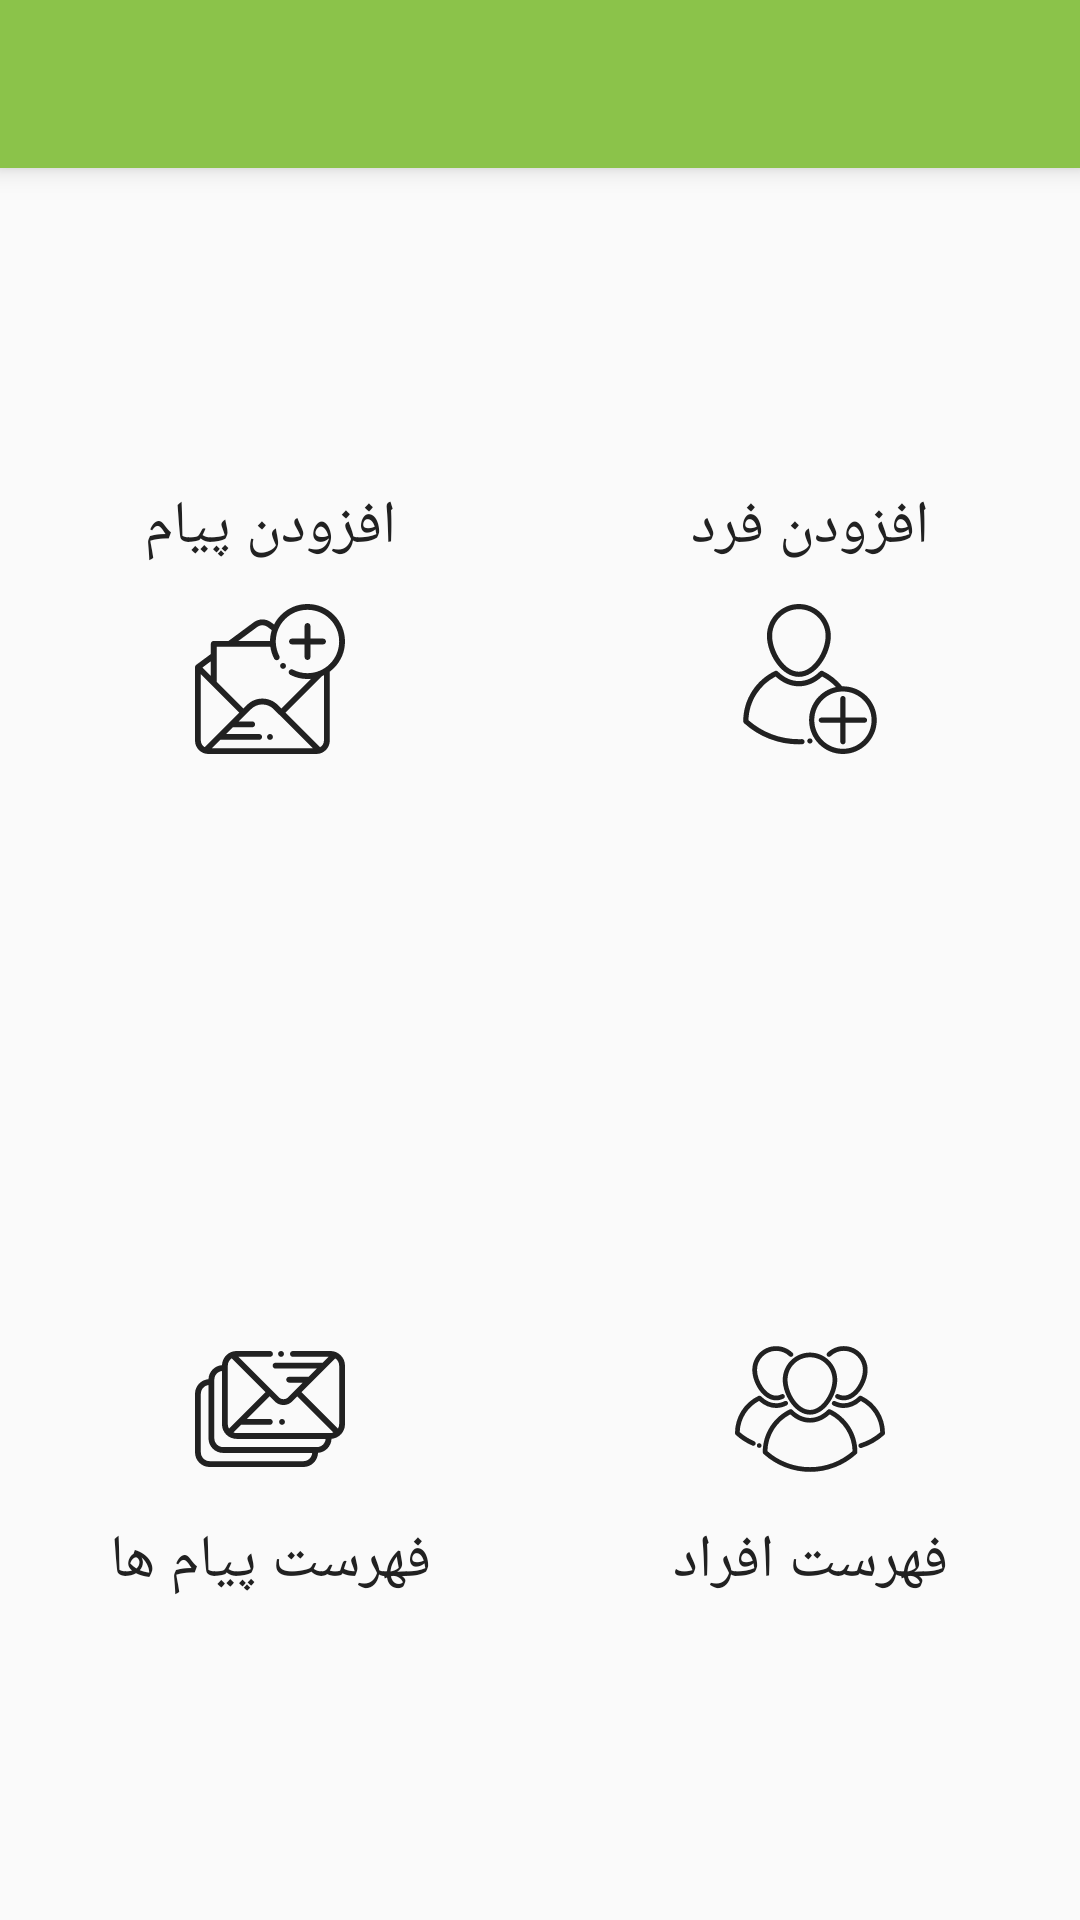

Screen size 1080 x 1920. Icon name, then its box in pixels as region(x1, y1, x2, y2):
add message: region(195, 604, 345, 754)
add person: region(743, 604, 877, 754)
messages list: region(195, 1351, 345, 1467)
perons list: region(735, 1346, 885, 1472)
